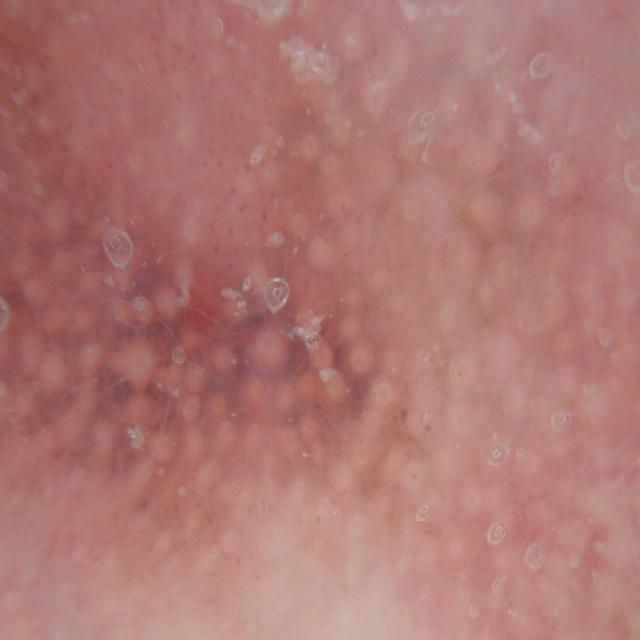Melanoma: (27, 208, 419, 582)
